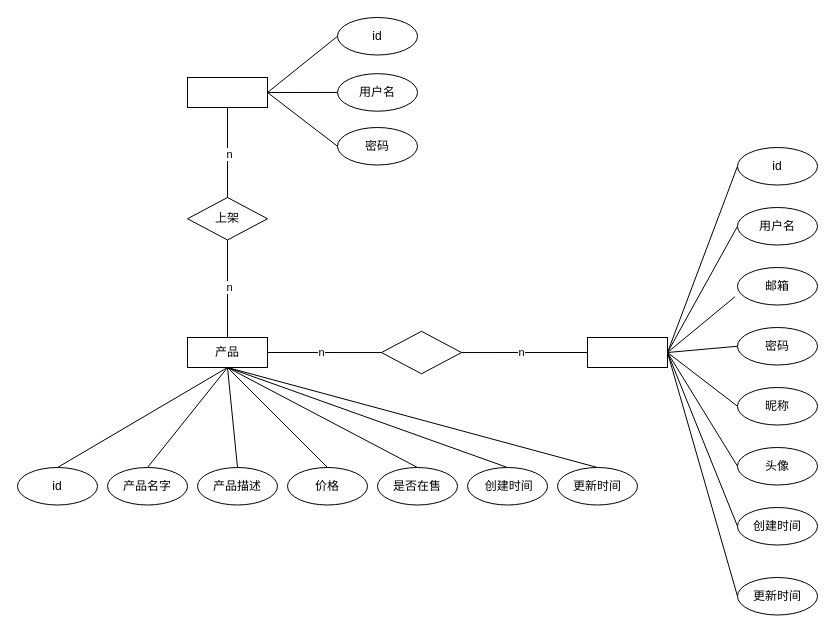
The diagram is 835 pixels wide and 633 high, and some of its shapes have lost their labels. The box of each missing label's shape, as (x1, y1, x2, y2) in pixels:
用户: (586, 336, 668, 368)
管理员: (186, 76, 268, 108)
选择: (380, 330, 462, 374)
